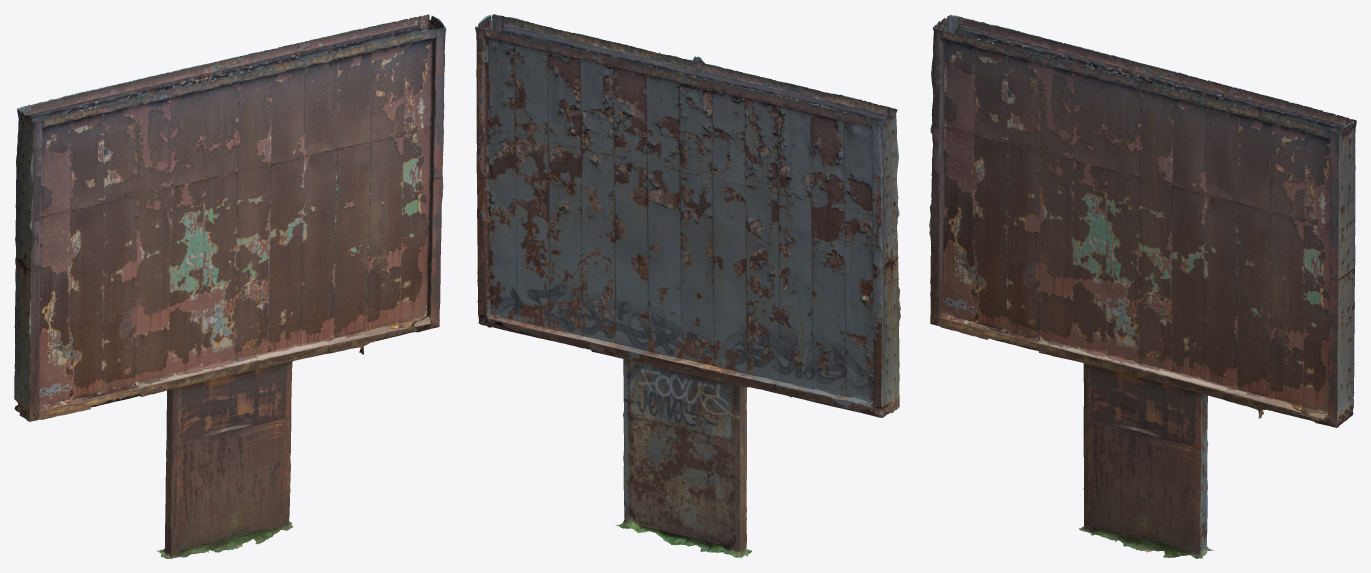
Rendered from derelict_road_sign.glb.
3 views of the same model, side by side, from view 1: azimuth 30°, elevation 25°; view 2: azimuth 150°, elevation 25°; view 3: azimuth 330°, elevation 25° (orthographic).
Parts seen in each view (by area): view 1: Object_2; view 2: Object_2; view 3: Object_2.
Boxes of the visible parts, x1,y1,x2,y2 form: Object_2: (14, 14, 446, 558); Object_2: (475, 14, 900, 558); Object_2: (929, 14, 1356, 558).
Bounding box in the file's own units: 18.52 × 20.6 × 1.63.
1 material, 1 textured.
